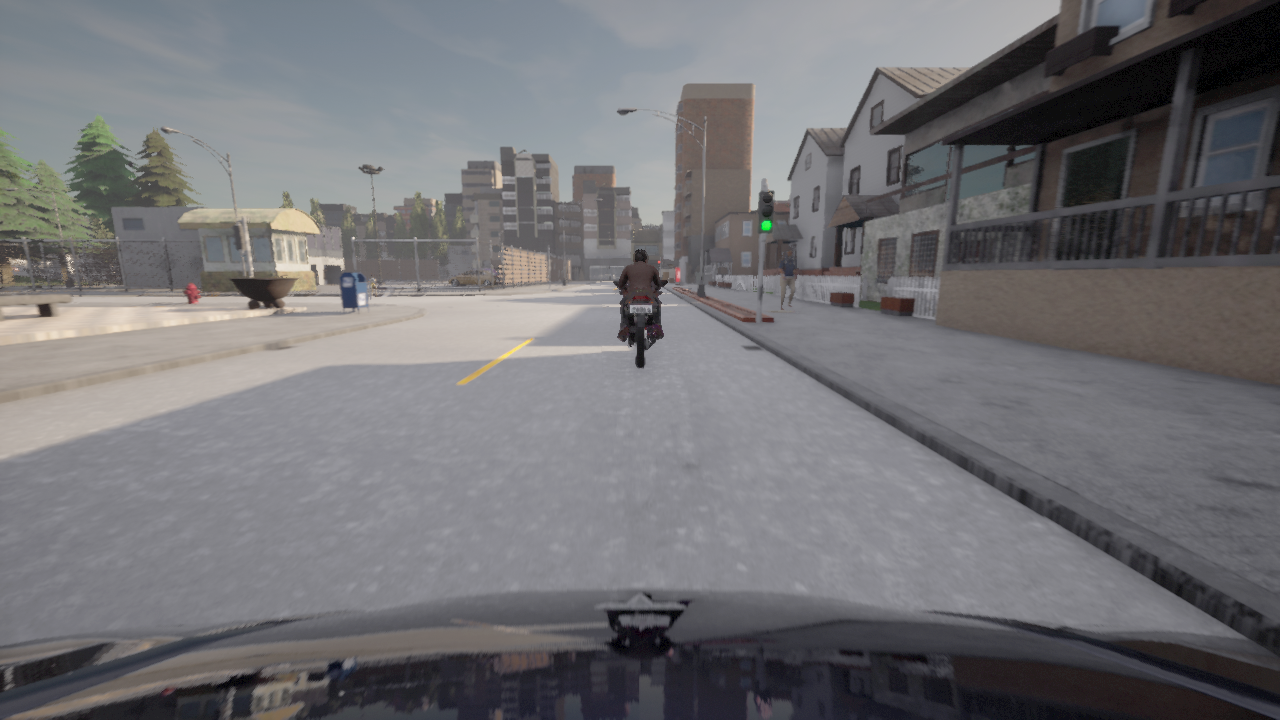cyclist: (0, 588, 1279, 719), (614, 281, 666, 368), (448, 270, 498, 286), (465, 268, 502, 285), (493, 266, 511, 284), (514, 273, 531, 282), (56, 273, 76, 278), (522, 269, 539, 274), (53, 272, 62, 278), (530, 273, 538, 278)
pedestrian: (778, 247, 796, 310), (368, 273, 377, 298)
